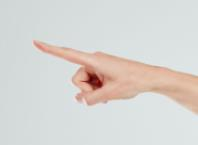up: (29, 38, 143, 109)
